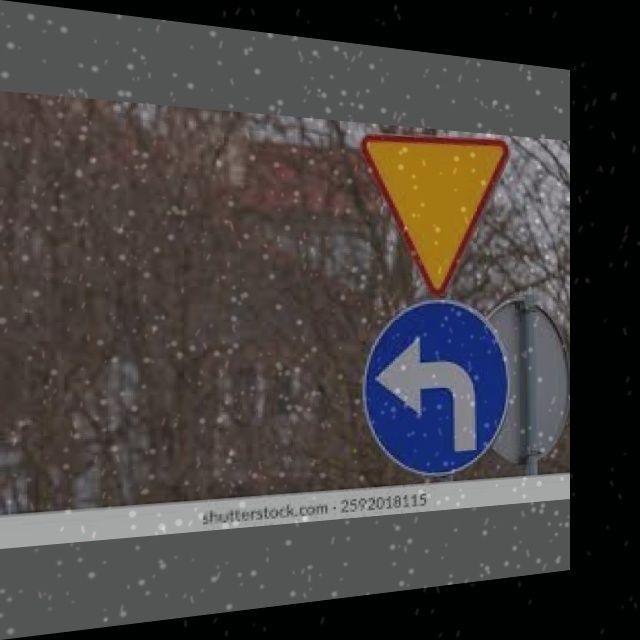Compulsory_Turn_Left_Ahead: (362, 300, 506, 477)
